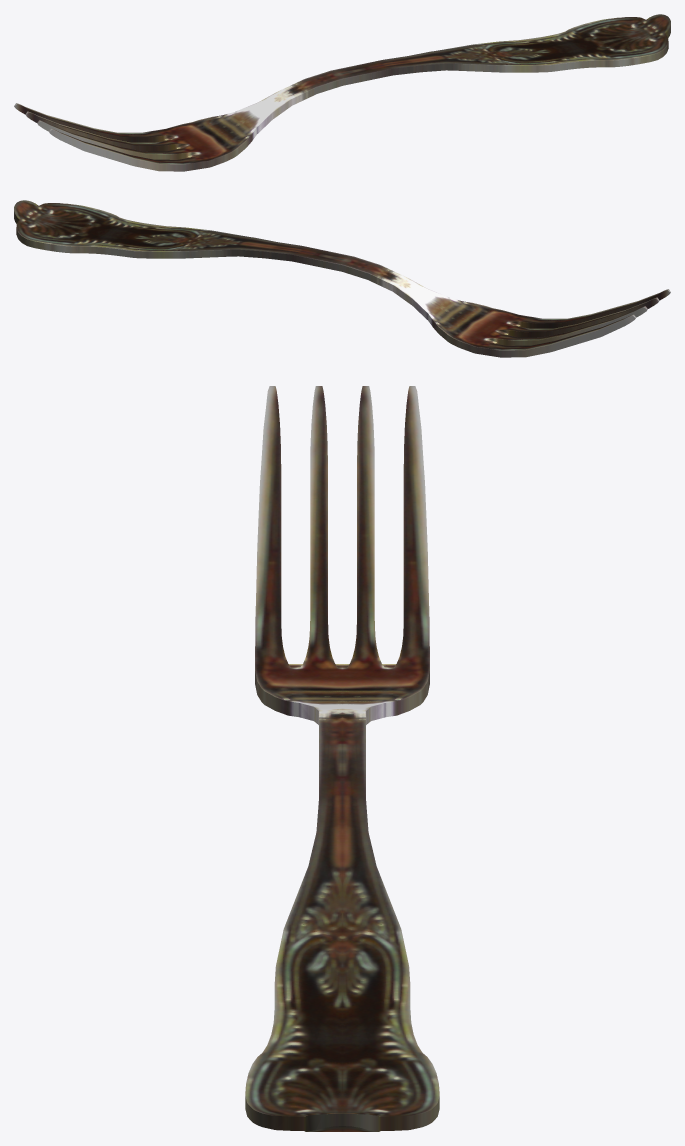
The model's file is Fork.dae.
3 views of the same model, one above another, from view 1: azimuth 30°, elevation 25°; view 2: azimuth 150°, elevation 25°; view 3: azimuth 270°, elevation 25° (orthographic). The views are drawn at different scales.
Visible parts, largest first — view 1: SketchUp; view 2: SketchUp; view 3: SketchUp.
Boxes of the visible parts, x1,y1,x2,y2 form: SketchUp: (14,14,670,171); SketchUp: (14,200,670,357); SketchUp: (245,386,439,1131).
Bounding box in the file's own units: 7788 × 1031 × 852.
